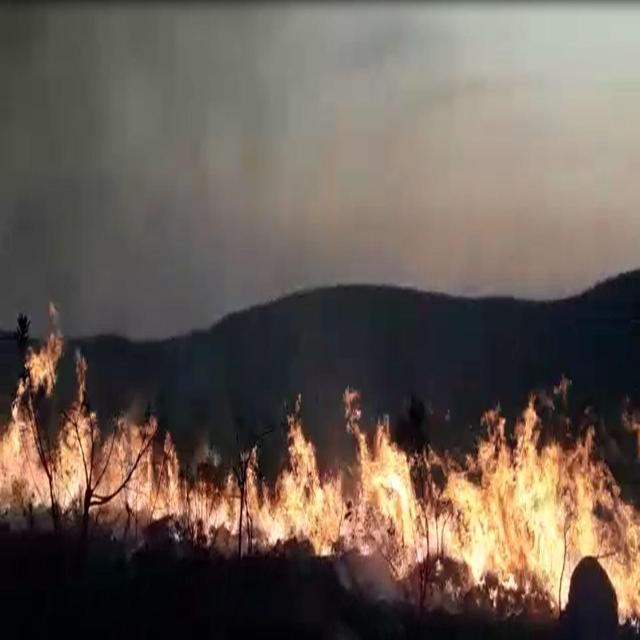Fire: (1, 302, 638, 626)
